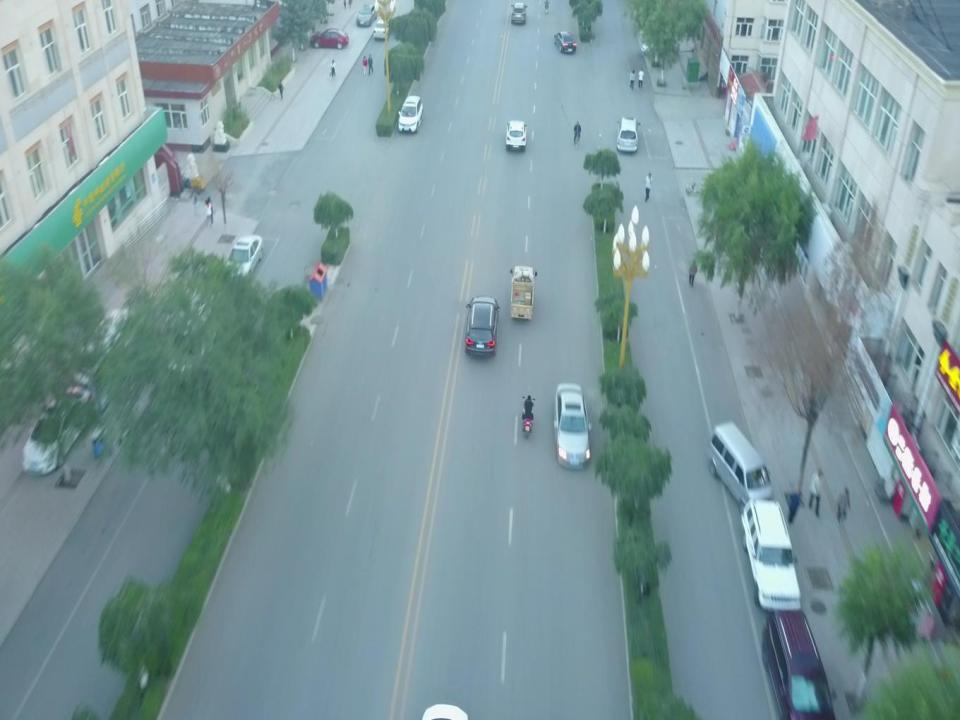car: (20, 386, 92, 477), (554, 382, 592, 470), (464, 296, 500, 356), (222, 234, 262, 282), (398, 95, 424, 135), (310, 28, 349, 49), (505, 120, 528, 152), (553, 32, 577, 54), (356, 5, 377, 27), (510, 3, 528, 25), (374, 19, 390, 40)
van: (762, 610, 838, 720), (741, 499, 801, 612), (706, 420, 774, 516), (616, 118, 640, 152)
